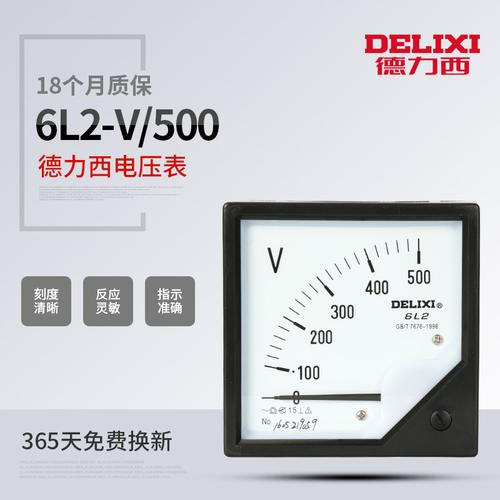pointer: (240, 218, 463, 440)
